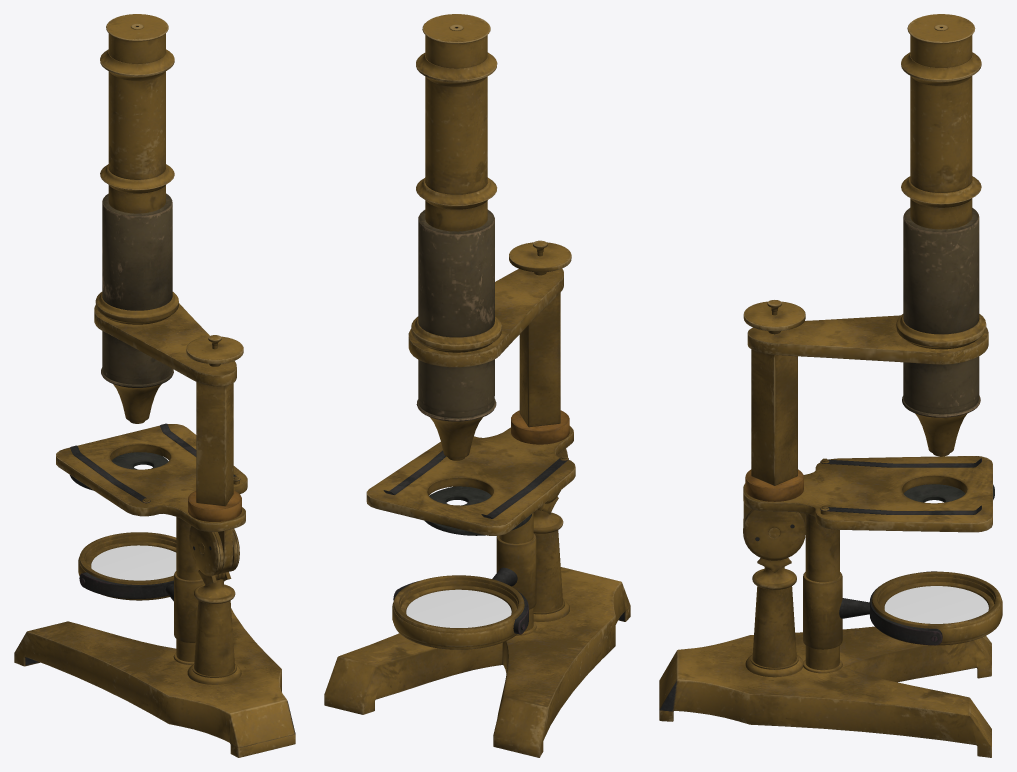
Rendered from Microscope.gltf.
3 renders of one model, left to right at view 1: azimuth 30°, elevation 25°; view 2: azimuth 150°, elevation 25°; view 3: azimuth 270°, elevation 25°, orthographic. The views are drawn at different scales.
Parts seen in each view (by area): view 1: Цилиндр.1-Материал.1, Цилиндр.1-Материал.2; view 2: Цилиндр.1-Материал.1, Цилиндр.1-Материал.2; view 3: Цилиндр.1-Материал.1, Цилиндр.1-Материал.2.
Boxes of the visible parts, box(x1,y1,x2,y2) form: Цилиндр.1-Материал.1: box(14, 14, 295, 757); Цилиндр.1-Материал.2: box(91, 545, 176, 580); Цилиндр.1-Материал.1: box(324, 14, 630, 757); Цилиндр.1-Материал.2: box(406, 589, 511, 627); Цилиндр.1-Материал.1: box(659, 14, 1002, 757); Цилиндр.1-Материал.2: box(884, 586, 988, 623).
Bounding box in the file's own units: 110 × 334 × 153.
Materials: 2 (1 with a texture image).
